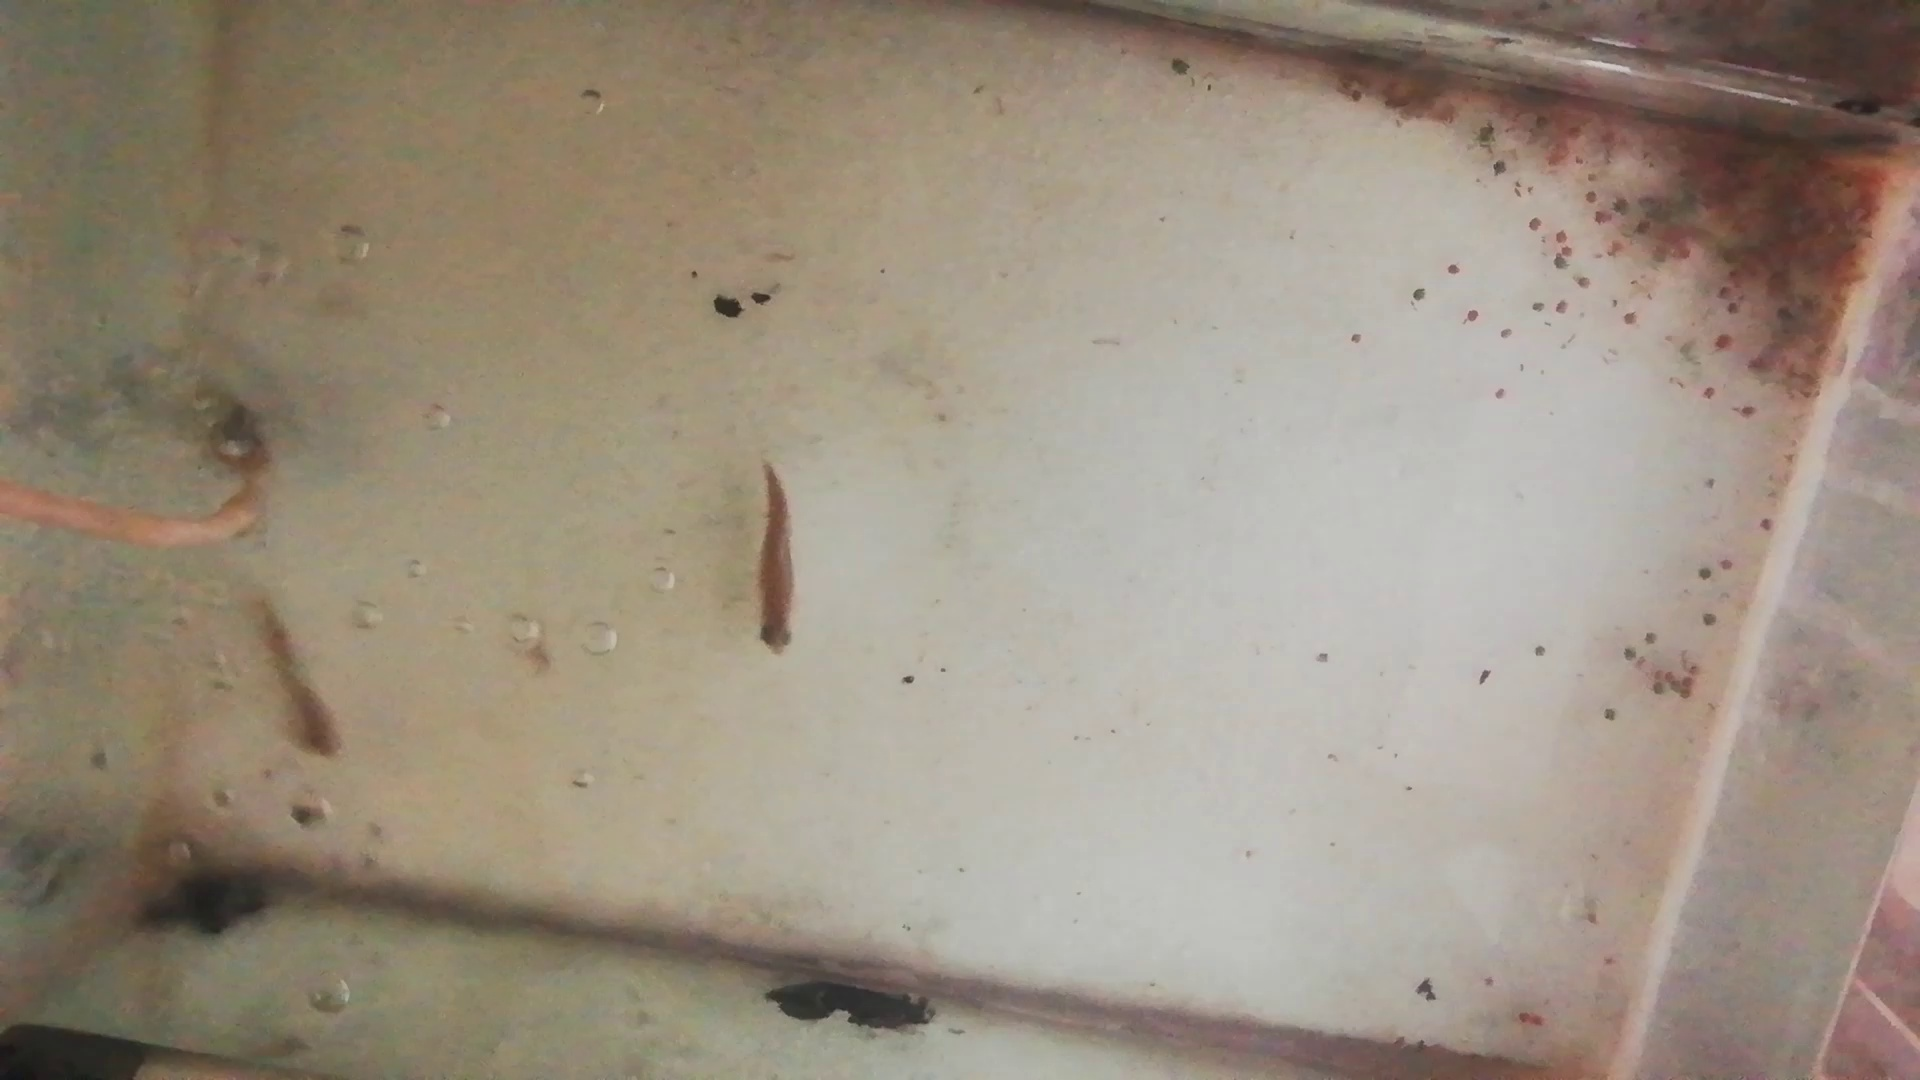fish: (247, 591, 344, 757), (752, 464, 804, 657)
